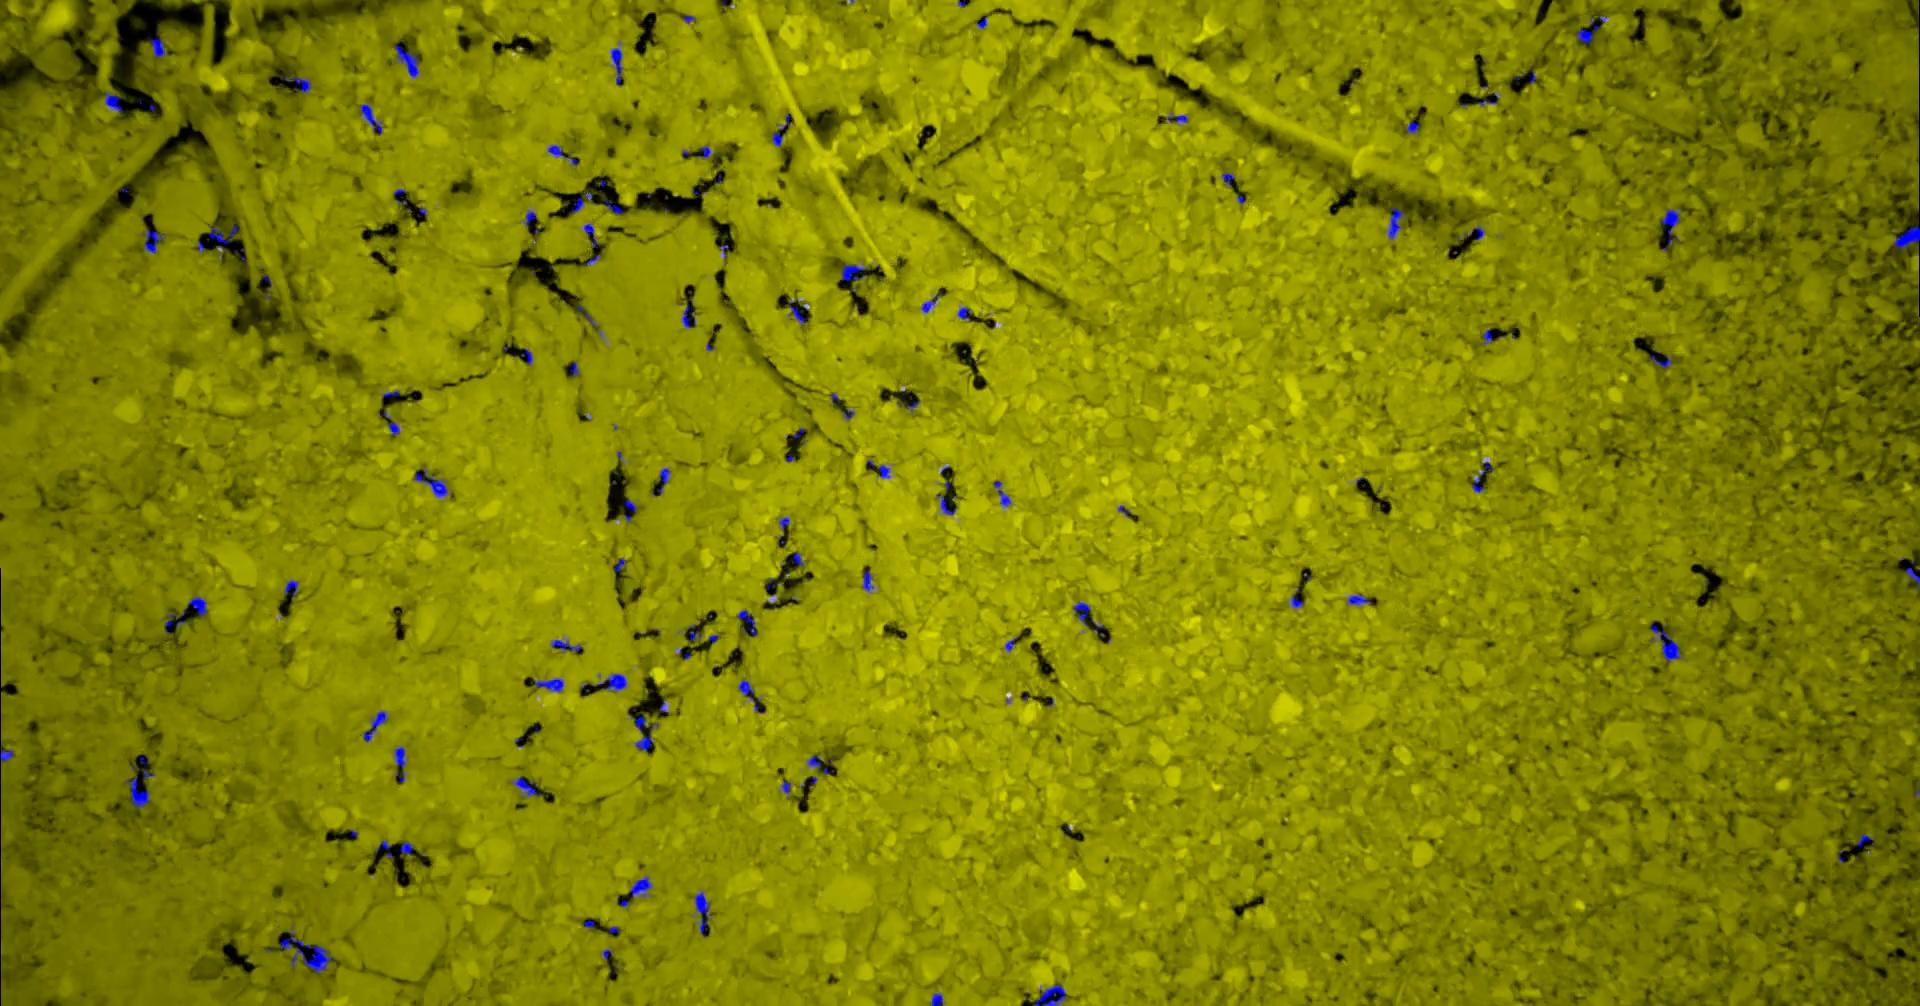ant: (279, 925, 335, 973), (1650, 621, 1683, 661), (413, 467, 451, 497), (629, 714, 658, 751), (0, 749, 13, 821), (394, 44, 419, 77), (362, 710, 389, 741), (124, 775, 149, 807), (207, 224, 237, 248), (1470, 461, 1495, 492), (737, 678, 759, 710), (1658, 208, 1679, 244), (770, 113, 790, 146), (359, 104, 382, 133), (693, 890, 709, 934), (1034, 984, 1065, 1005), (590, 673, 626, 691), (547, 144, 577, 164), (130, 754, 154, 779), (737, 608, 757, 636), (512, 776, 540, 796), (1893, 226, 1919, 248), (143, 227, 165, 253), (625, 876, 651, 897), (279, 75, 311, 91), (1387, 207, 1403, 239), (378, 409, 399, 434), (841, 263, 867, 281), (610, 47, 622, 84), (392, 746, 405, 782), (935, 493, 956, 514), (570, 191, 590, 213), (992, 480, 1010, 506), (1650, 347, 1671, 367), (185, 596, 207, 615), (808, 754, 829, 774), (1073, 601, 1090, 625), (1905, 561, 1919, 589), (789, 298, 804, 324), (164, 610, 185, 627), (681, 300, 695, 326), (533, 678, 563, 691), (550, 639, 582, 650), (921, 295, 941, 312), (104, 91, 122, 111), (150, 37, 166, 57), (583, 224, 597, 246), (375, 840, 392, 857), (283, 579, 298, 600), (1463, 225, 1484, 239), (1575, 28, 1592, 43), (686, 622, 701, 640), (1346, 593, 1369, 605), (604, 199, 622, 213), (657, 467, 670, 485), (695, 145, 714, 158), (861, 570, 872, 591), (392, 188, 406, 205), (523, 210, 537, 226), (1290, 588, 1302, 607), (1164, 113, 1189, 122), (957, 306, 971, 321), (521, 347, 532, 365), (565, 361, 579, 375), (1481, 328, 1492, 344), (1857, 835, 1873, 846), (1404, 121, 1418, 133), (1222, 171, 1234, 185), (397, 841, 411, 854), (930, 992, 943, 1005), (877, 464, 889, 478), (623, 499, 636, 511), (0, 873, 1, 929)
